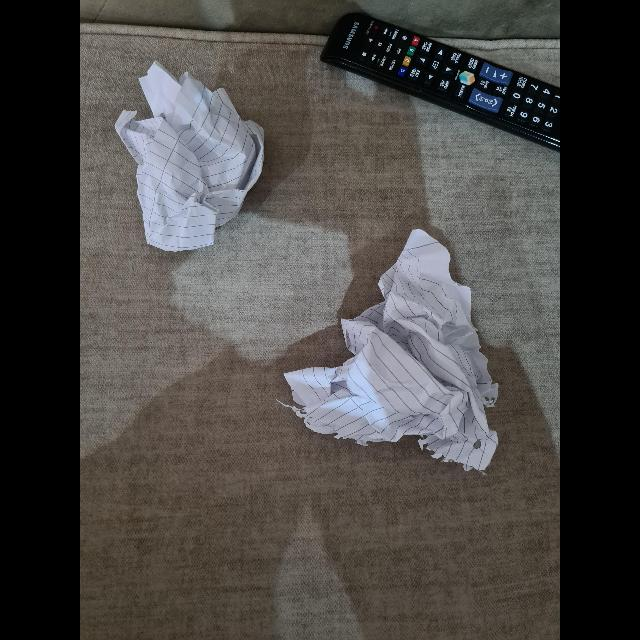scrap_paper: (325, 230, 491, 466), (118, 61, 266, 248)
